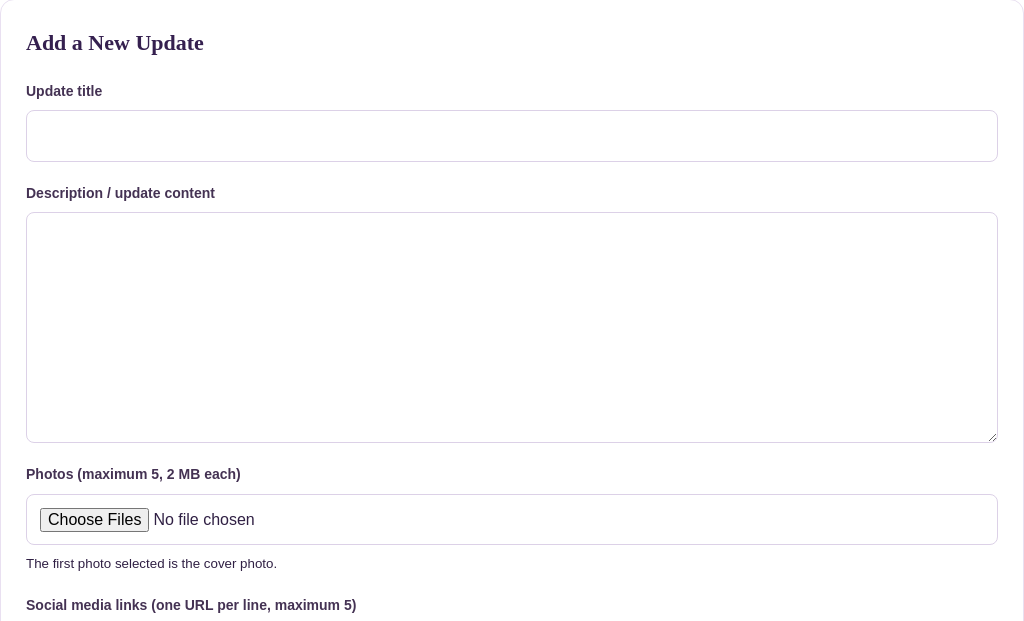
Test case: AdminUpdates › saves a new published update and confirms it
Expected: the heading "Add a New Update" is shown, [26,30,204,55]
Type "New title" into the field labelled "Update title" at (512, 136), box [26,110,998,162]
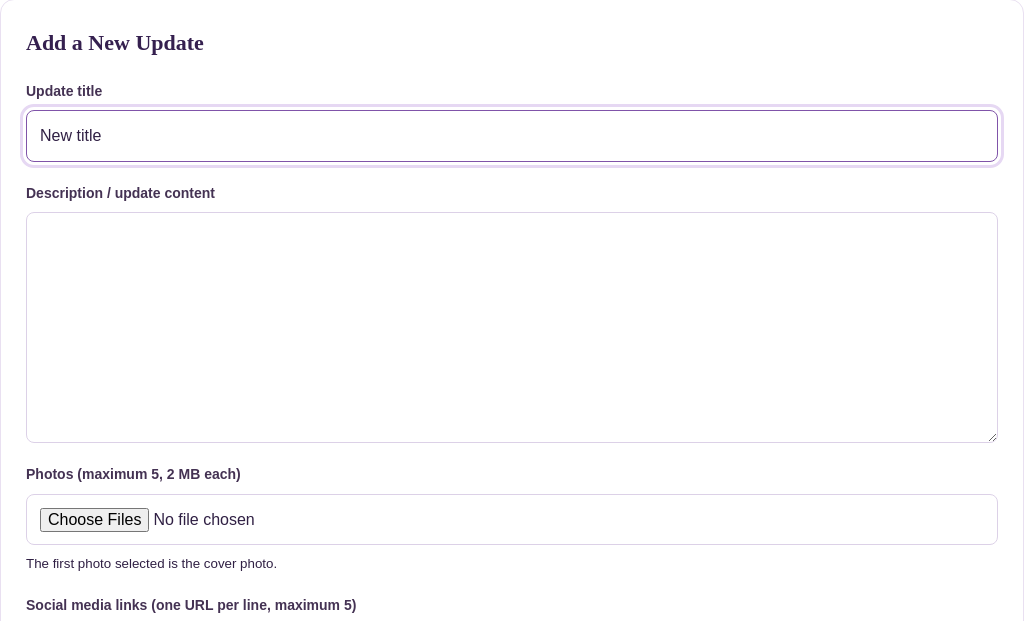
Type "Some content" into the text box labelled "Description / update content" at (512, 328), box [26,212,998,443]
(page scrolled)
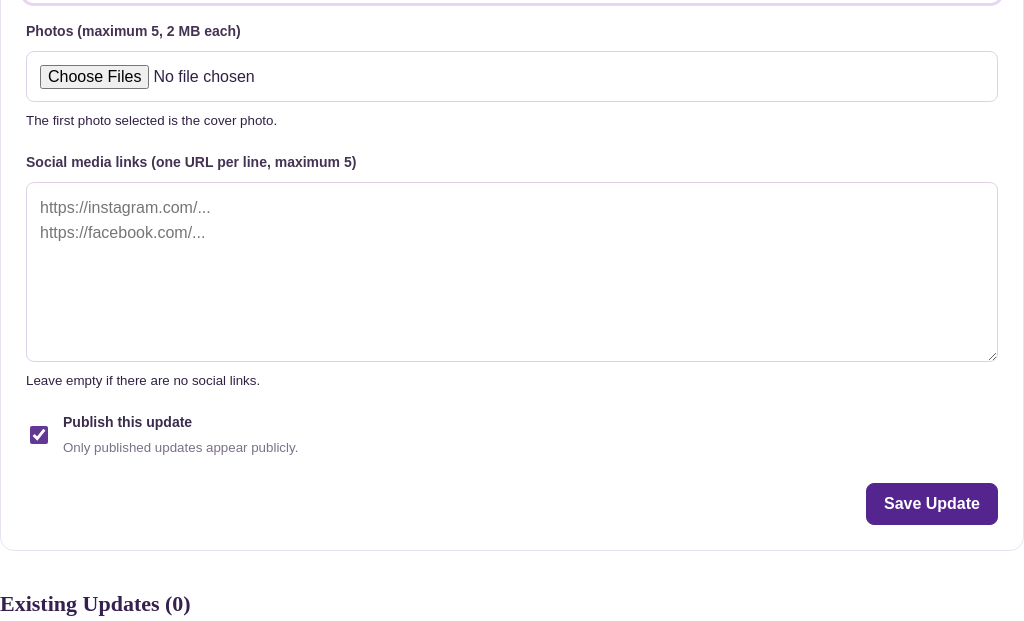
Click the button "Save Update" at (932, 504), box [866,483,998,525]
(page scrolled)
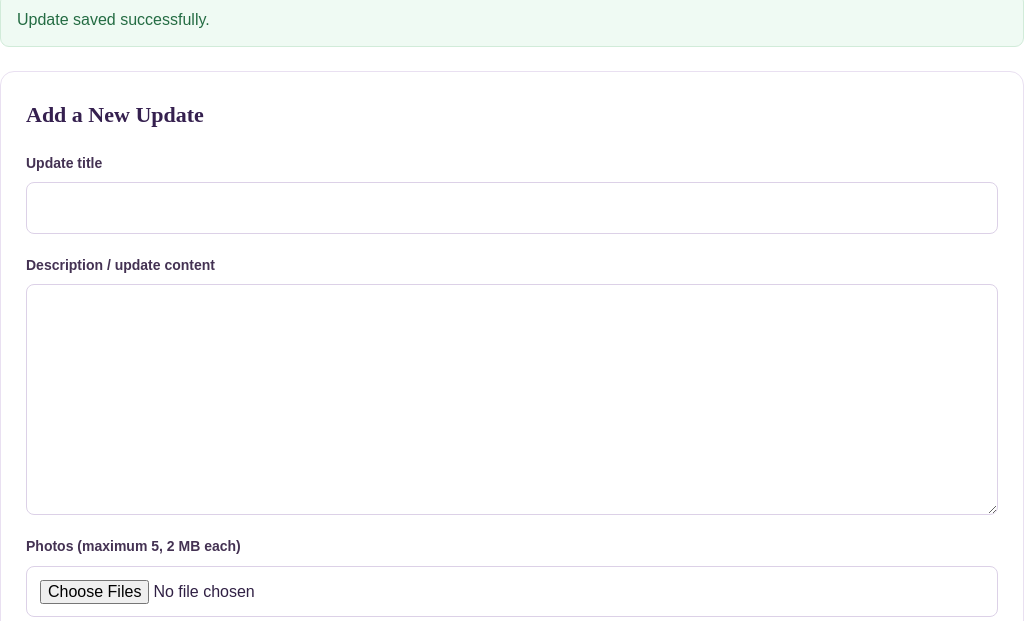
Expected: the message reads "Update saved successfully.", [17,11,210,28]
Expected: the field labelled "Update title" is empty, [26,182,998,234]
